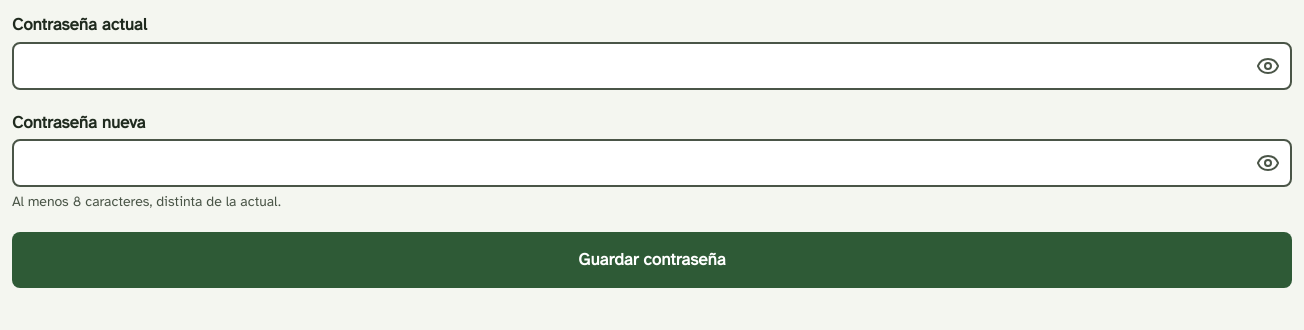
Test: ChangePasswordForm › rechaza una contraseña nueva igual a la actual (esquema de @hato/shared)
This screenshot has width=1304, height=330.
Type "temporal-123" into the password field labelled "Contraseña actual" at (652,66), box [12,42,1292,90]
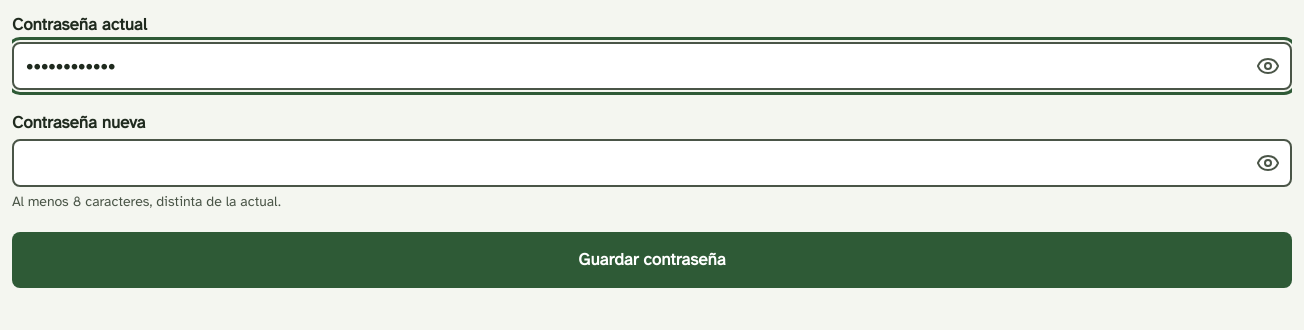
Type "temporal-123" into the password field labelled "Contraseña nueva" at (652,163), box [12,139,1292,187]
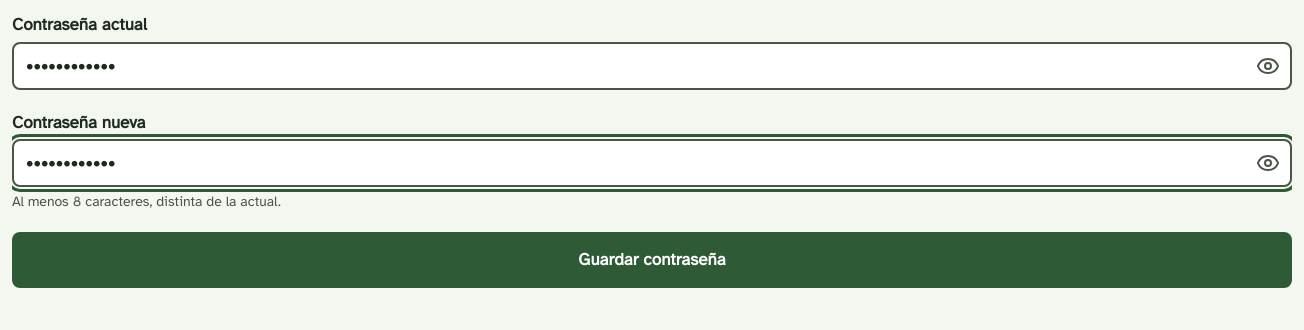
Click the button "Guardar contraseña" at (652,260), box [12,232,1292,288]
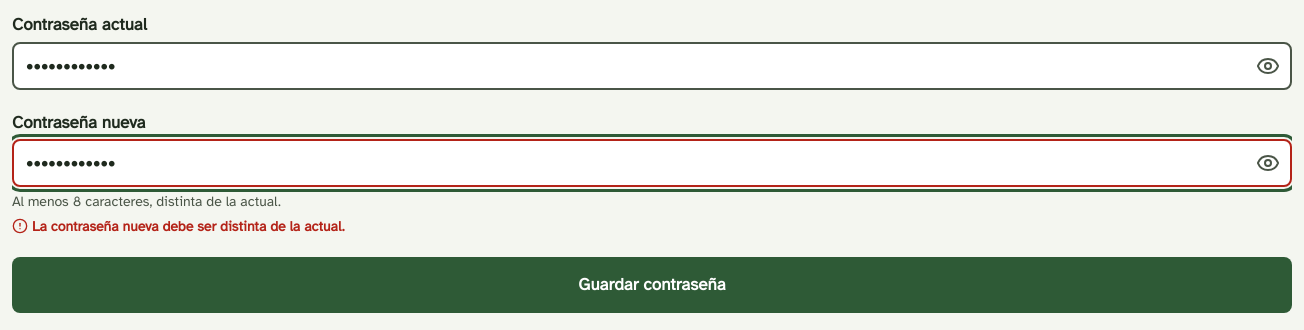
Check: the text "La contraseña nueva debe ser distinta de la actual." is shown, box [12,218,345,235]
